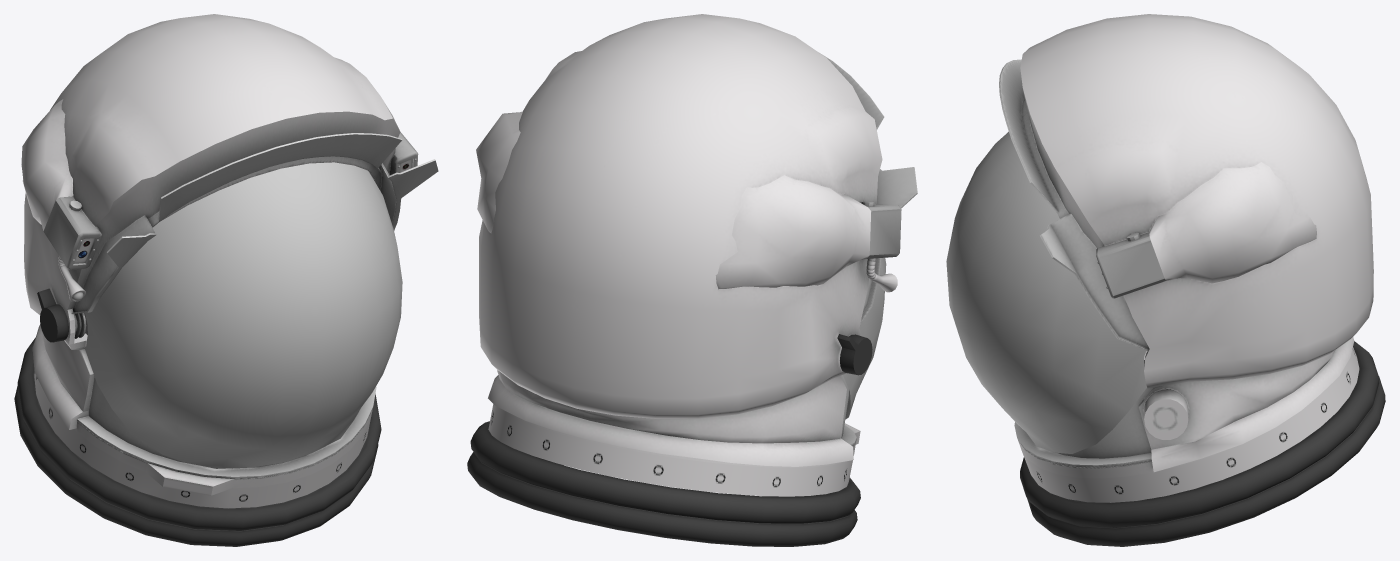
The model's file is Helmet.fbx.
3 views of the same model, side by side, from view 1: azimuth 30°, elevation 25°; view 2: azimuth 150°, elevation 25°; view 3: azimuth 270°, elevation 25° (orthographic). The views are drawn at different scales.
Parts seen in each view (by area): view 1: Helmet-Body; view 2: Helmet-Body; view 3: Helmet-Body.
Part boxes in pixels (left/top/right/bottom): Helmet-Body: left=14, top=14, right=438, bottom=546; Helmet-Body: left=467, top=14, right=917, bottom=546; Helmet-Body: left=946, top=14, right=1385, bottom=546.
Bounding box in the file's own units: 29.92 × 37.87 × 31.84.
